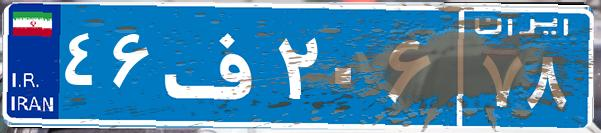0: (330, 28, 385, 110)
2: (273, 28, 330, 110)
4: (57, 26, 110, 107)
6: (385, 28, 445, 110), (110, 28, 158, 105)
7: (475, 38, 525, 113)
8: (525, 38, 570, 115)
ف: (158, 15, 273, 115)
